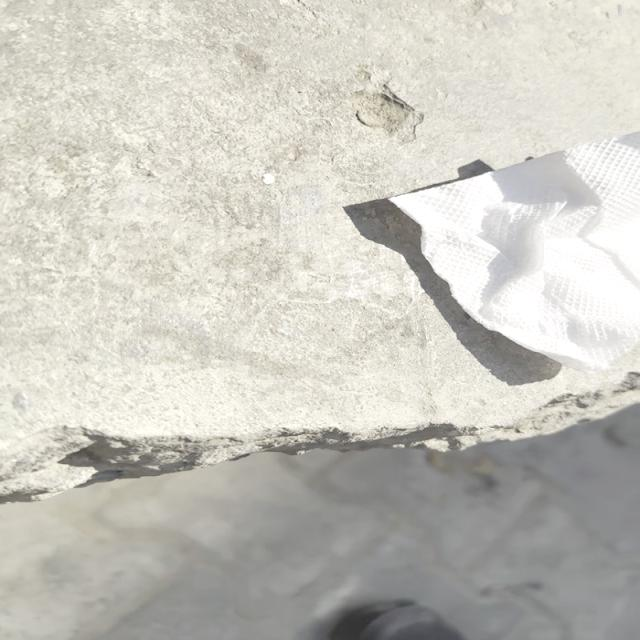tissue: (384, 124, 640, 389)
